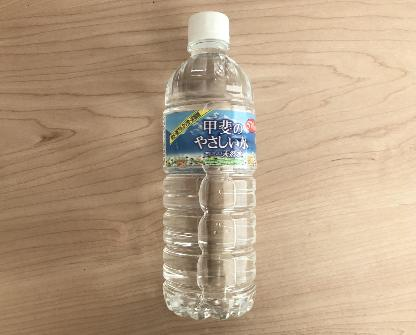Plastic Bottle: (155, 6, 263, 324)
